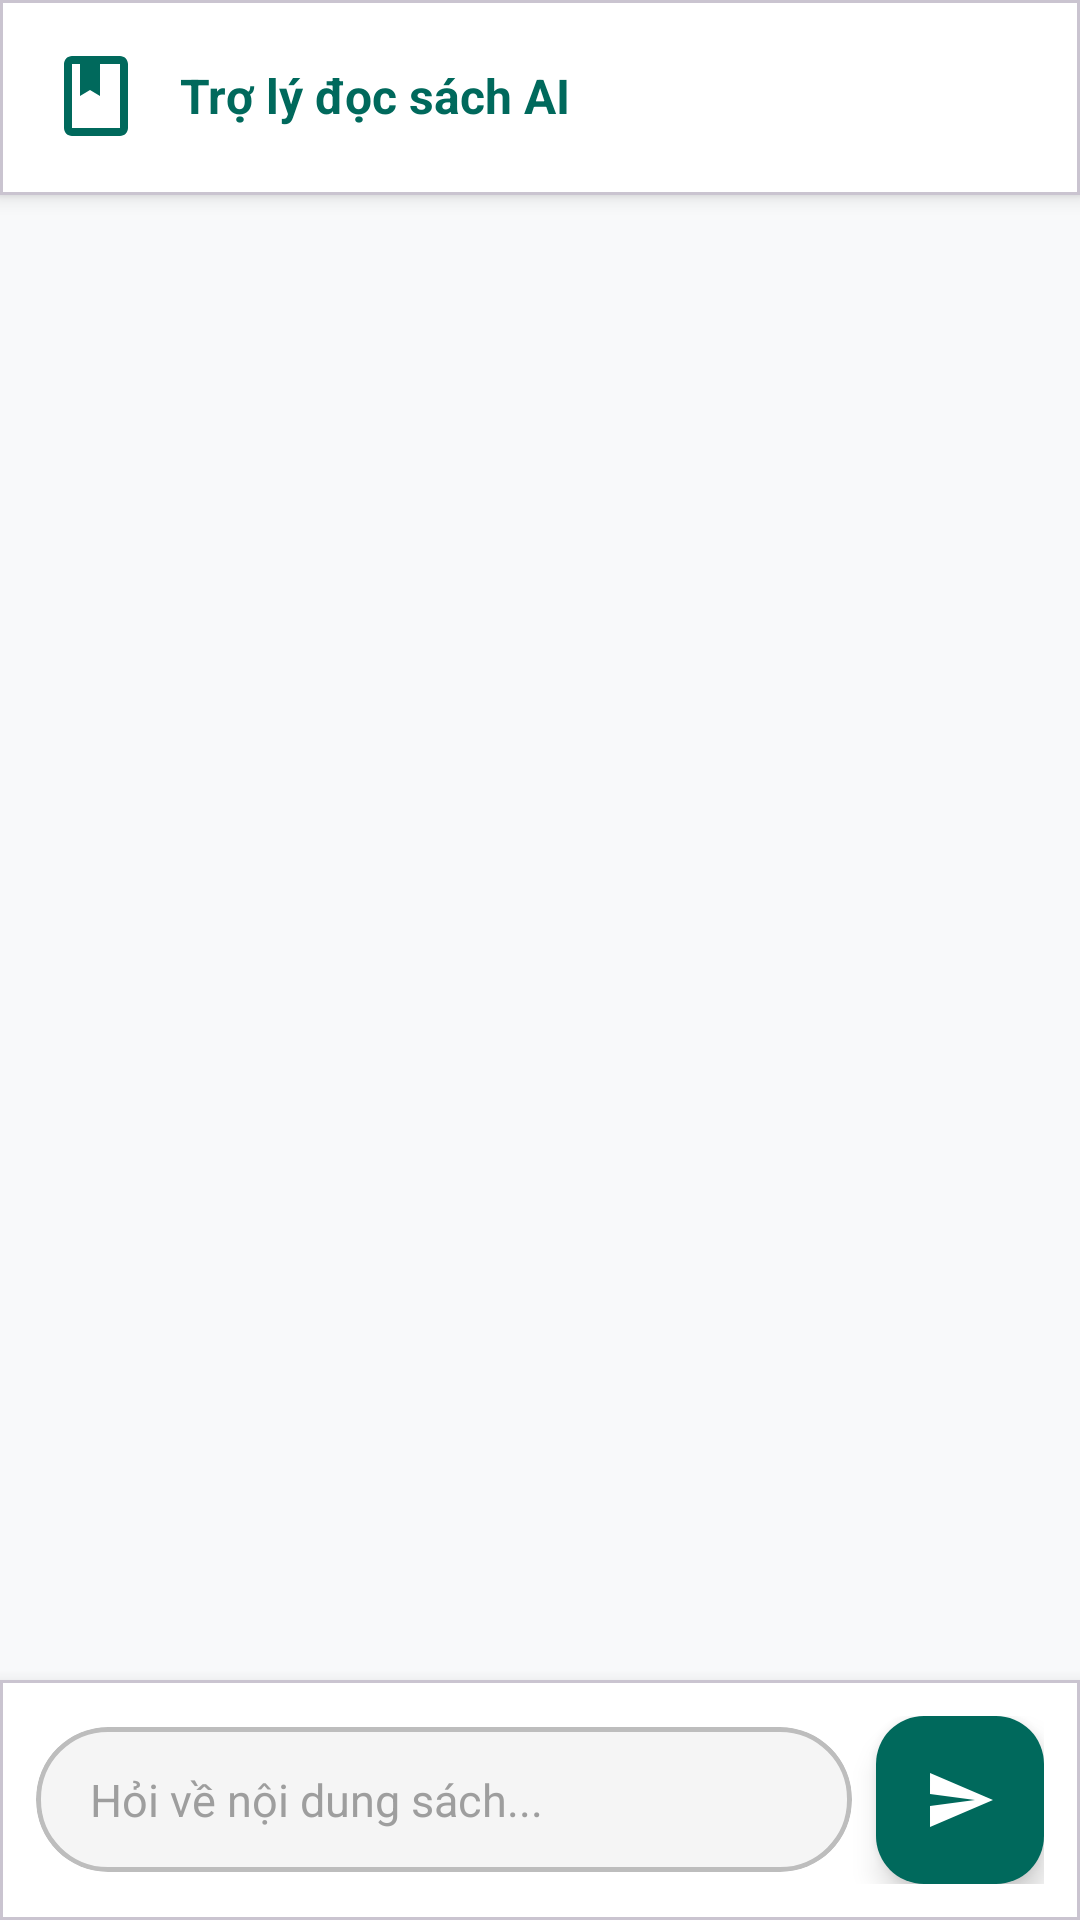

Screen size 1080x1920. Icon name, then its box in pixels as (x1, y1, x2, y2):
book: (64, 56, 128, 136)
Gửi tin nhắn: (876, 1716, 1044, 1884)
